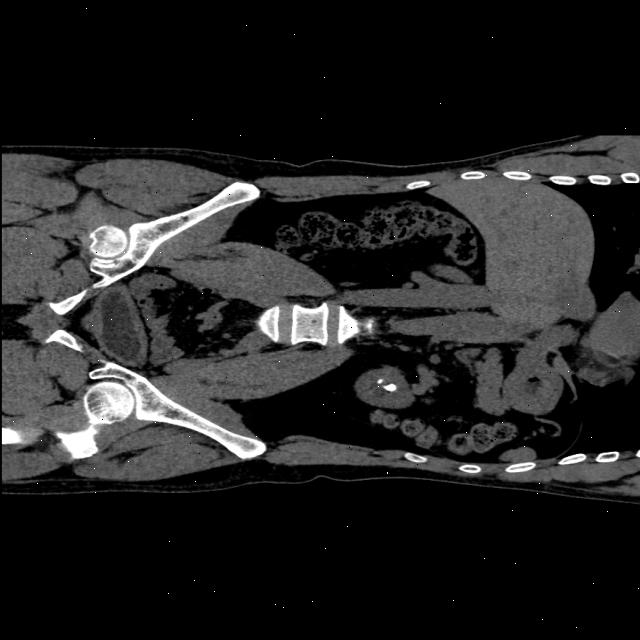kidneystone: (383, 371, 407, 394), (378, 379, 382, 384)
